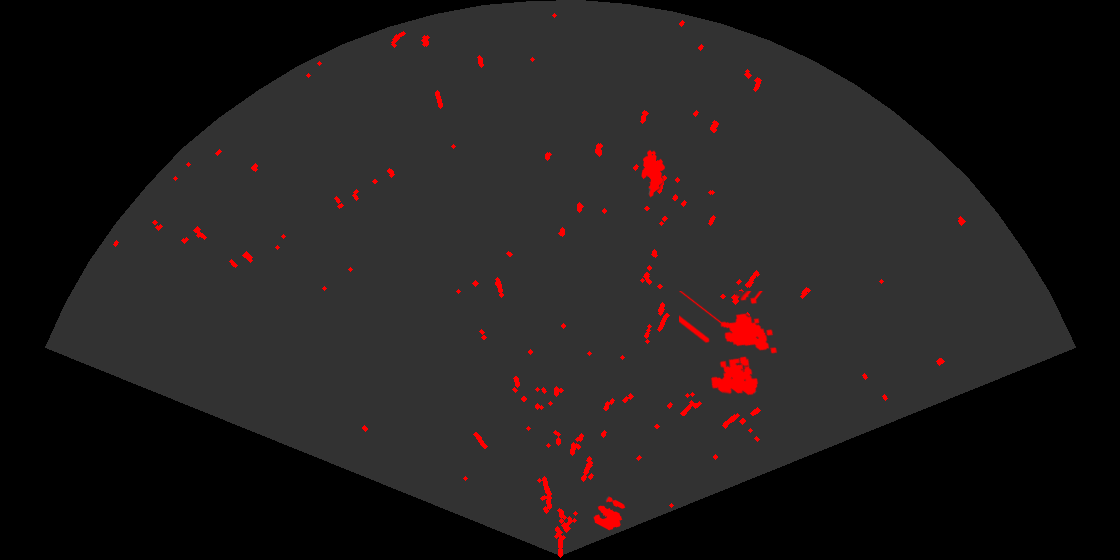AUV: (640, 148, 667, 199)
ball: (592, 495, 627, 532)
cage: (679, 291, 779, 397)
